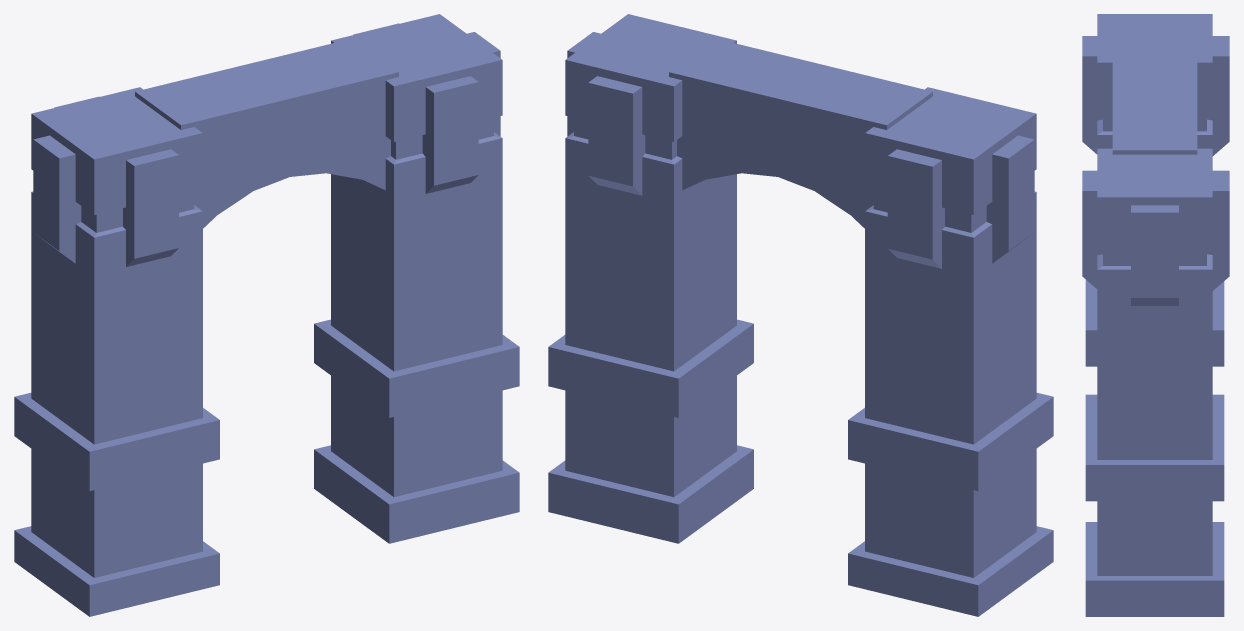
File: bridge_1_column_big.fbx
The picture shows the model from 3 angles, left to right: view 1: azimuth 30°, elevation 25°; view 2: azimuth 150°, elevation 25°; view 3: azimuth 270°, elevation 25°; orthographic projection. The views are drawn at different scales.
Parts seen in each view (by area): view 1: bridge_1_column_big; view 2: bridge_1_column_big; view 3: bridge_1_column_big.
Part boxes in pixels (box(x1,y1,x2,y2)): bridge_1_column_big: box(14, 14, 519, 616); bridge_1_column_big: box(548, 14, 1053, 616); bridge_1_column_big: box(1082, 14, 1229, 616).
Size of the model in its own units: 11.78 by 11.61 by 3.7.
